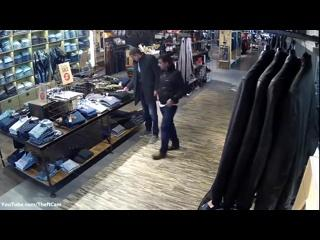Normal: (197, 44, 319, 208), (124, 47, 160, 144), (154, 52, 186, 160)
